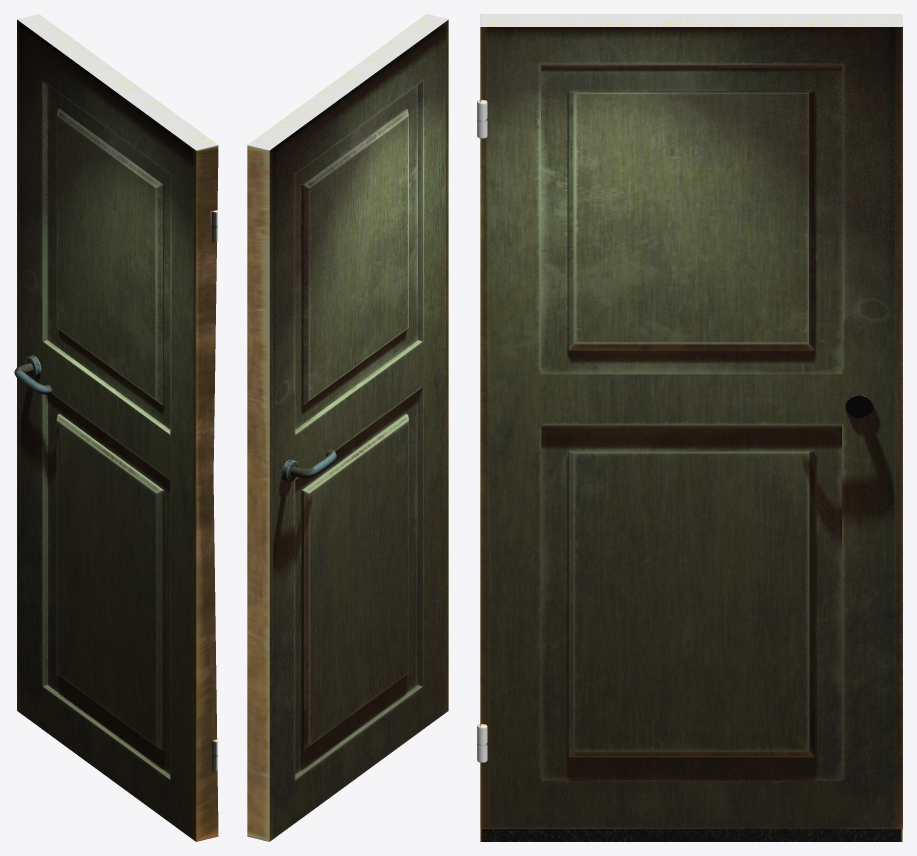
The model's file is level_flat_exit_door.glb.
The picture shows the model from 3 angles, left to right: view 1: azimuth 30°, elevation 25°; view 2: azimuth 150°, elevation 25°; view 3: azimuth 270°, elevation 25°; orthographic projection. The views are drawn at different scales.
Parts seen in each view (by area): view 1: huone1_ulko_ovi; view 2: huone1_ulko_ovi; view 3: huone1_ulko_ovi.
Boxes of the visible parts, x1,y1,x2,y2 form: huone1_ulko_ovi: (14,14,218,841); huone1_ulko_ovi: (247,14,448,841); huone1_ulko_ovi: (477,14,902,841).
Size of the model in its own units: 1.45 by 20.43 by 9.67.
1 material, 1 textured.
